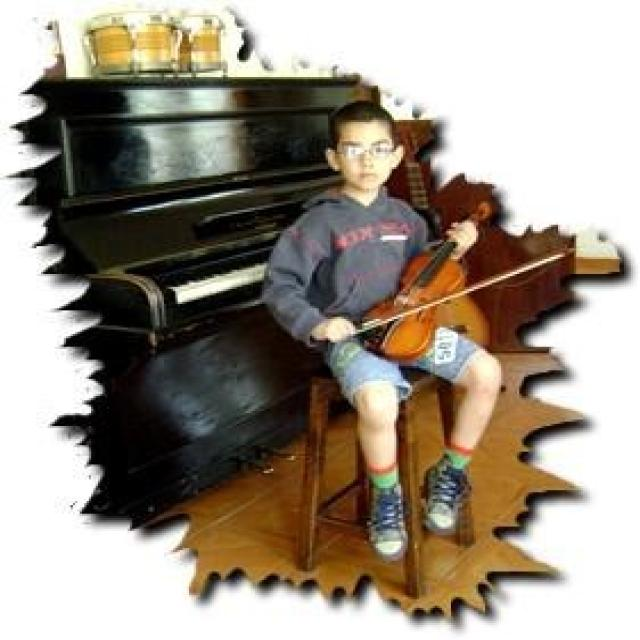violin: (358, 200, 489, 362)
